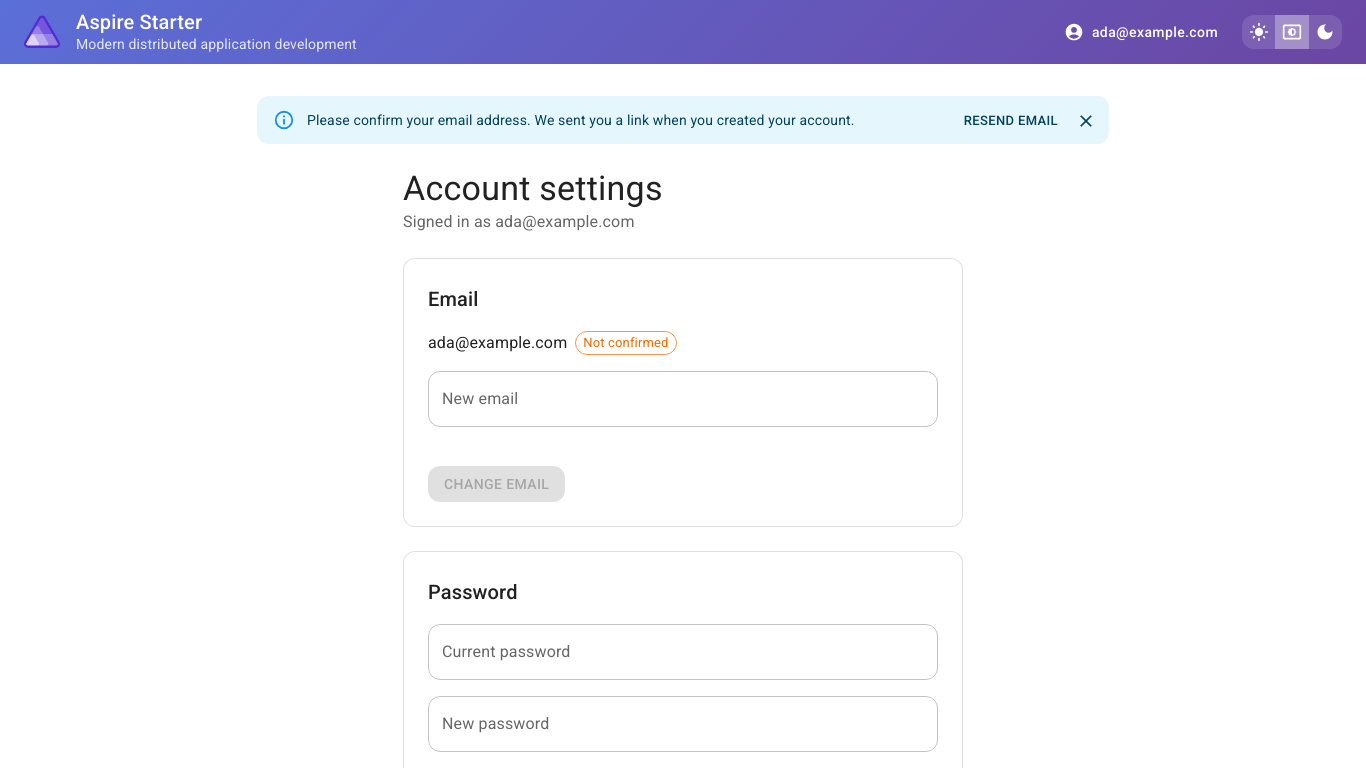
Test: EmailSection › sends the confirmation link and says where it went
In the field labelled "New email": coordinates (683, 399) [428,371,938,427], type " ada@new.example "
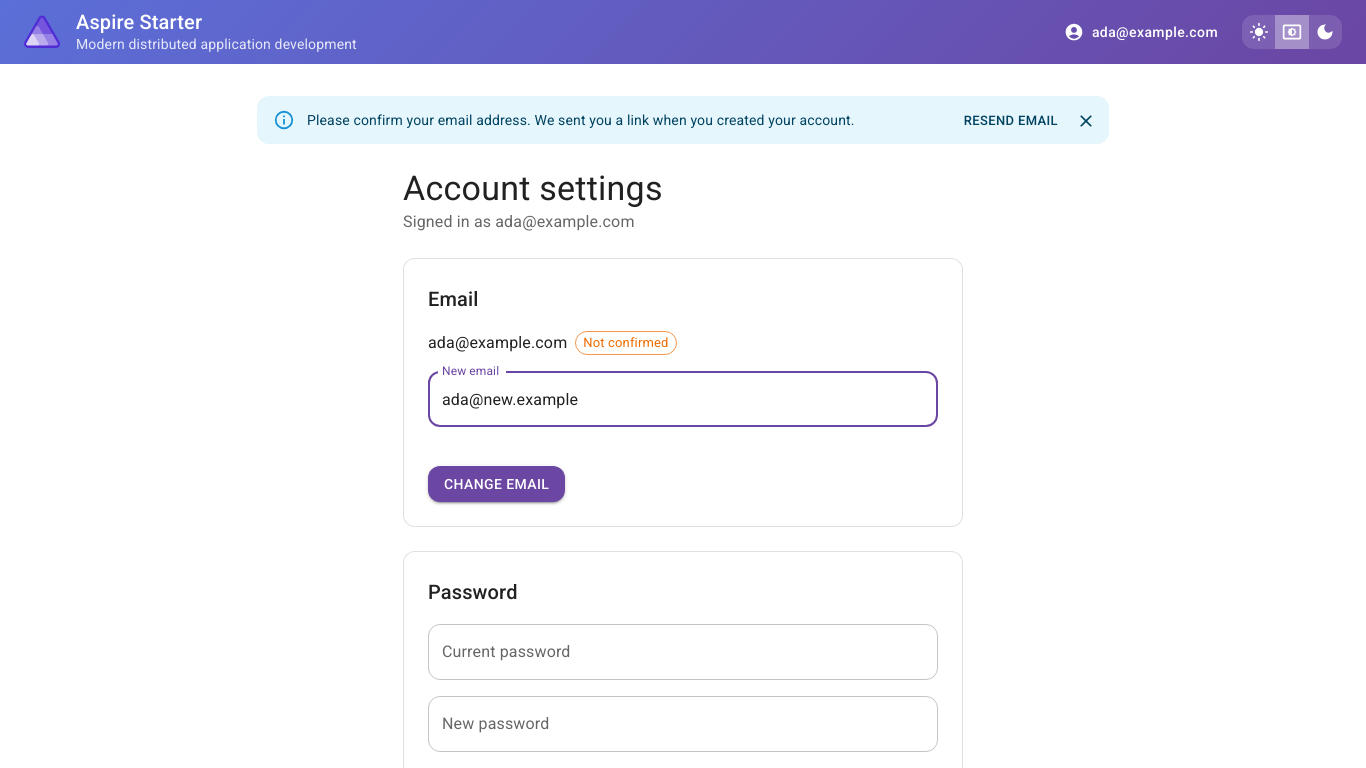
Click the button "Change email": coordinates (497, 484) [428,466,565,502]
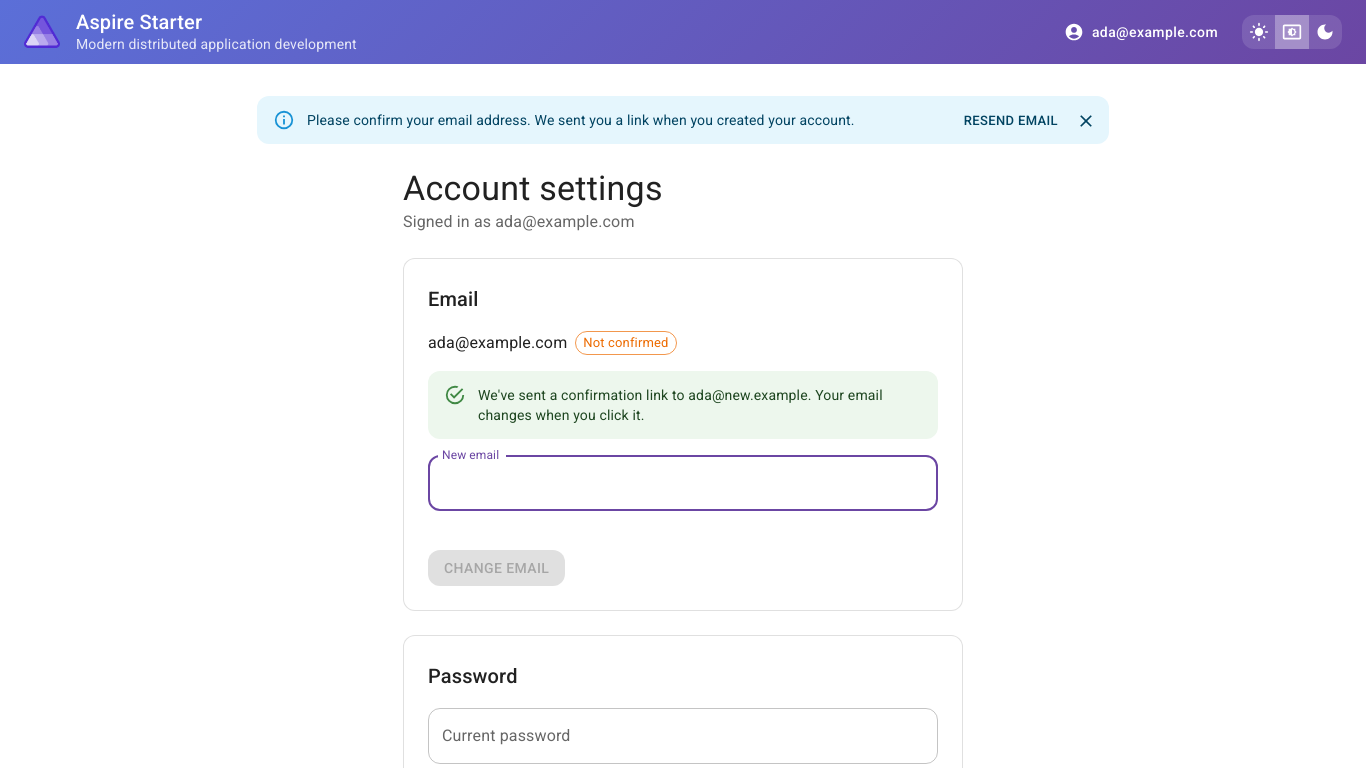
Expected: the text "ada@example.com" next to "Not confirmed" is shown, [428,333,567,352]
Now the 2nd message shows "We've sent a confirmation link to ada@new.example. Your email changes when you click it.", box [478,387,883,423]
